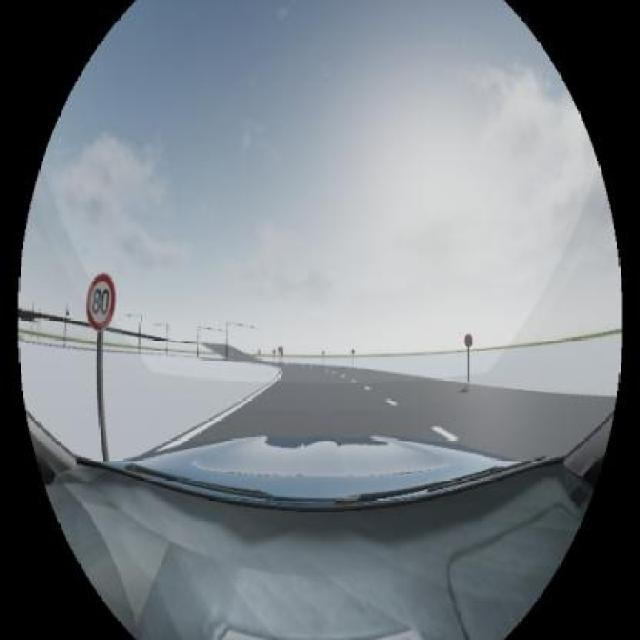forb_speed_over_80: (87, 274, 116, 329)
